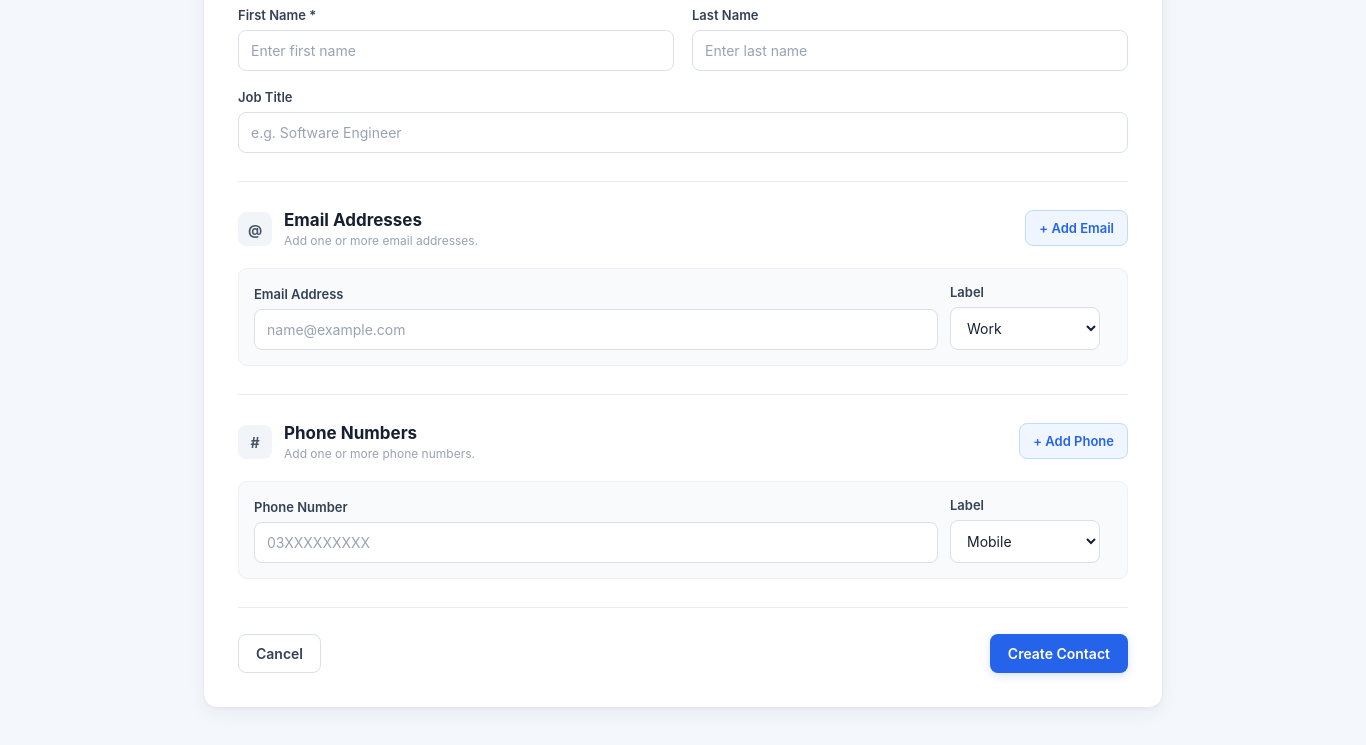
AddContact › adds another phone field
This screenshot has width=1366, height=745.
(page scrolled)
Click the button "+ Add Phone" at coordinates (1074, 441), box x1=1019 y1=423 x2=1128 y2=459
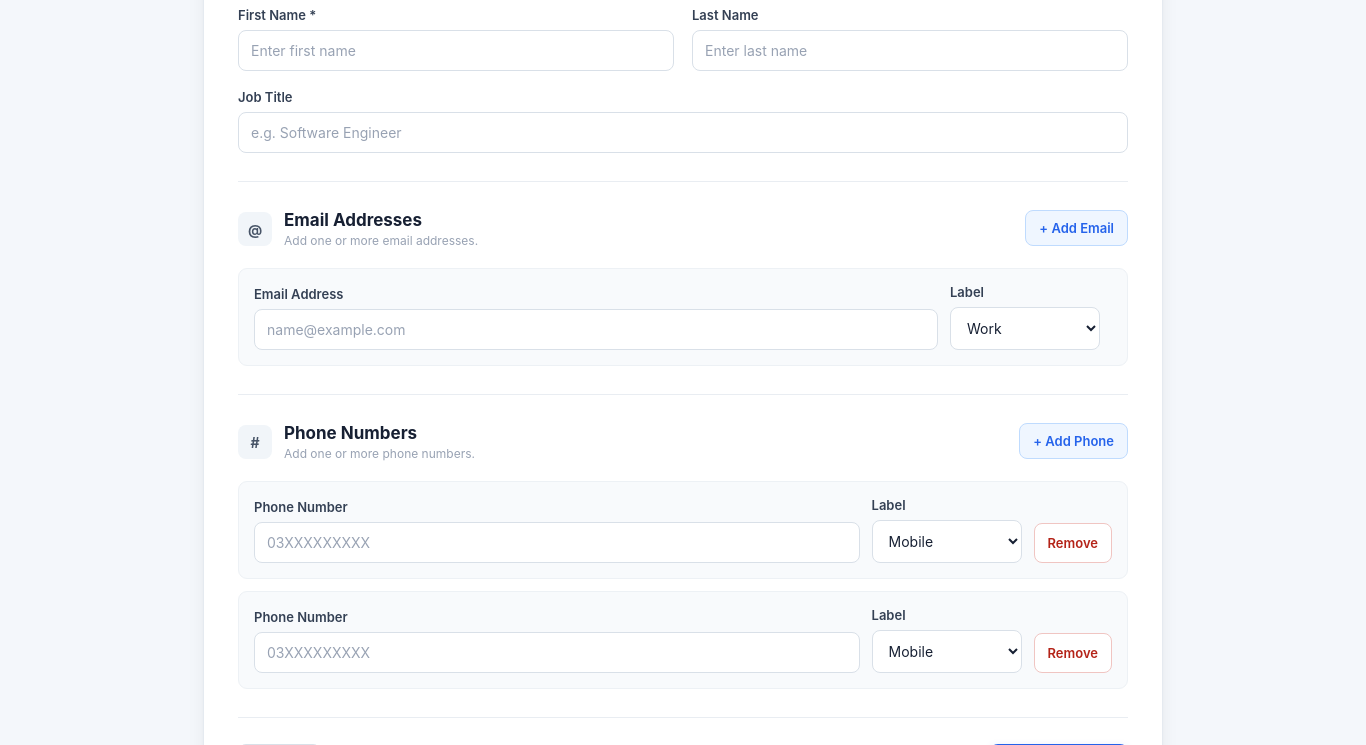
Expected: the number of fields labelled "Phone Number" is 2, x1=254 y1=522 x2=860 y2=563; x1=254 y1=632 x2=860 y2=673
Result: the number of buttons "Remove" is 2 at x1=1034 y1=523 x2=1112 y2=563; x1=1034 y1=633 x2=1112 y2=673
